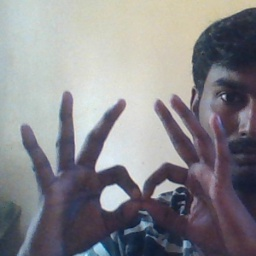B: (88, 129, 199, 238)
